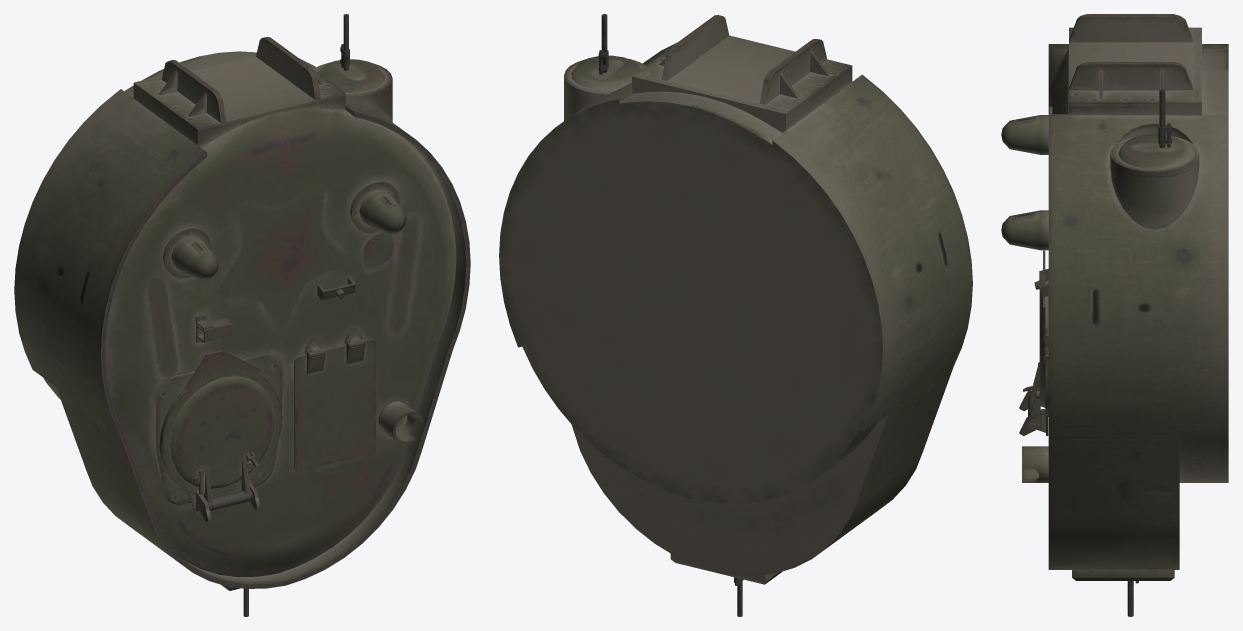
File: Turret_01.glb
3 renders of one model, left to right at view 1: azimuth 30°, elevation 25°; view 2: azimuth 150°, elevation 25°; view 3: azimuth 270°, elevation 25°, orthographic. The views are drawn at different scales.
Parts seen in each view (by area): view 1: set_0_group_0; view 2: set_0_group_0; view 3: set_0_group_0.
Boxes of the visible parts, x1,y1,x2,y2 form: set_0_group_0: [14, 14, 470, 616]; set_0_group_0: [499, 14, 972, 616]; set_0_group_0: [1001, 14, 1228, 616].
Bounding box in the file's own units: 1.83 × 2.66 × 0.939.
Materials: 1 (1 with a texture image).
